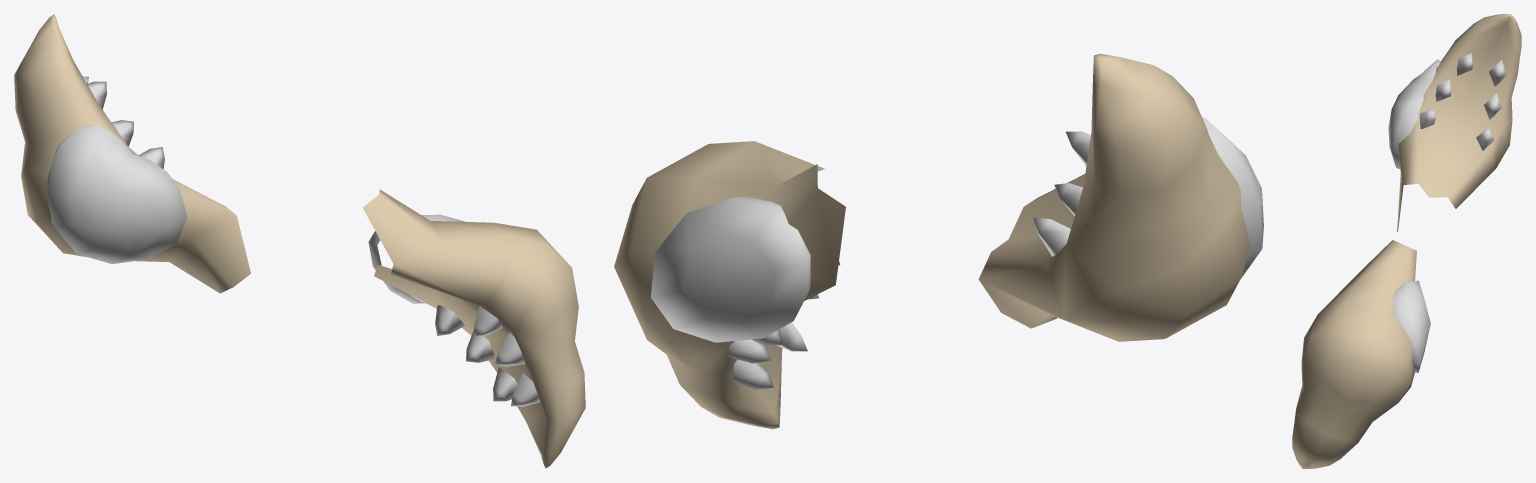
File: S12_Reptile06_L2_Horn.glb
3 views of the same model, side by side, from view 1: azimuth 30°, elevation 25°; view 2: azimuth 150°, elevation 25°; view 3: azimuth 270°, elevation 25° (orthographic). The views are drawn at different scales.
Parts seen in each view (by area): view 1: S12_Reptile06_L2_Horn__Horn_L__surface0__lod0, S12_Reptile06_L2_Horn__Horn_R__surface1__lod0; view 2: S12_Reptile06_L2_Horn__Horn_L__surface0__lod0, S12_Reptile06_L2_Horn__Horn_R__surface1__lod0; view 3: S12_Reptile06_L2_Horn__Horn_R__surface1__lod0, S12_Reptile06_L2_Horn__Horn_L__surface0__lod0.
Part boxes in pixels (bbox=[...]): S12_Reptile06_L2_Horn__Horn_L__surface0__lod0: bbox=[14, 14, 250, 293]; S12_Reptile06_L2_Horn__Horn_R__surface1__lod0: bbox=[363, 189, 585, 468]; S12_Reptile06_L2_Horn__Horn_L__surface0__lod0: bbox=[978, 53, 1263, 341]; S12_Reptile06_L2_Horn__Horn_R__surface1__lod0: bbox=[614, 141, 845, 429]; S12_Reptile06_L2_Horn__Horn_R__surface1__lod0: bbox=[1292, 240, 1430, 468]; S12_Reptile06_L2_Horn__Horn_L__surface0__lod0: bbox=[1388, 14, 1521, 231].
Bounding box in the file's own units: 89.39 × 79.87 × 50.85.
